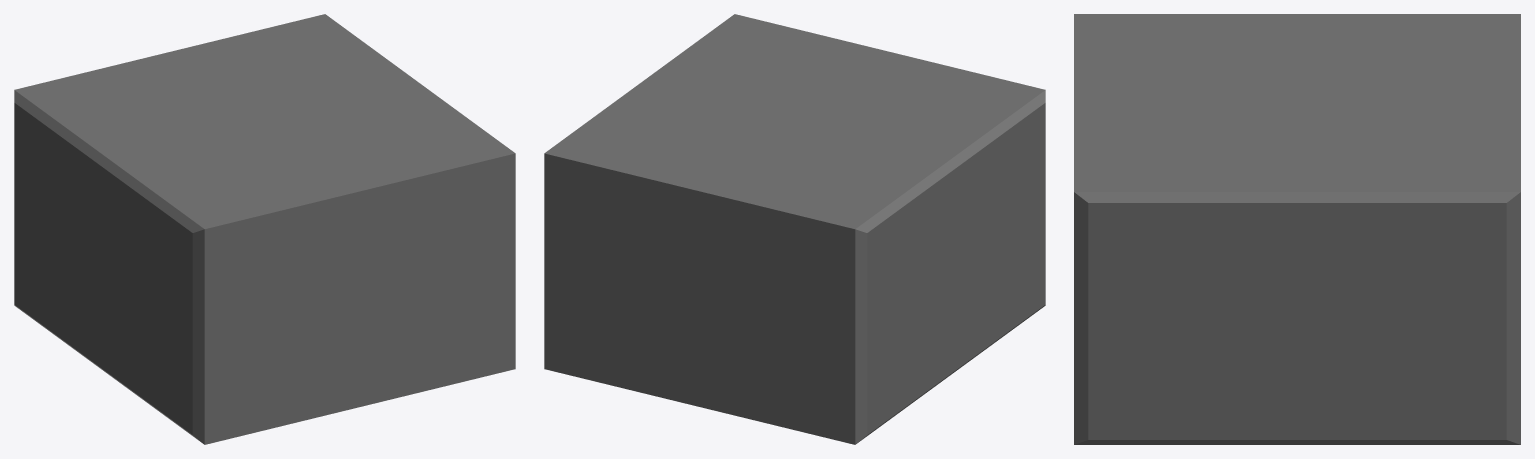
The model's file is Itr_Couch_Inside_Seat_Middle_03.FBX.
3 views of the same model, side by side, from view 1: azimuth 30°, elevation 25°; view 2: azimuth 150°, elevation 25°; view 3: azimuth 270°, elevation 25° (orthographic). The views are drawn at different scales.
Parts seen in each view (by area): view 1: Itr_Couch_Inside_Seat_Middle_03; view 2: Itr_Couch_Inside_Seat_Middle_03; view 3: Itr_Couch_Inside_Seat_Middle_03.
Part boxes in pixels (x1=…): Itr_Couch_Inside_Seat_Middle_03: x1=14, y1=14, x2=515, y2=444; Itr_Couch_Inside_Seat_Middle_03: x1=544, y1=14, x2=1045, y2=444; Itr_Couch_Inside_Seat_Middle_03: x1=1074, y1=14, x2=1520, y2=444.
Bounding box in the file's own units: 19.21 × 12.29 × 19.68.
